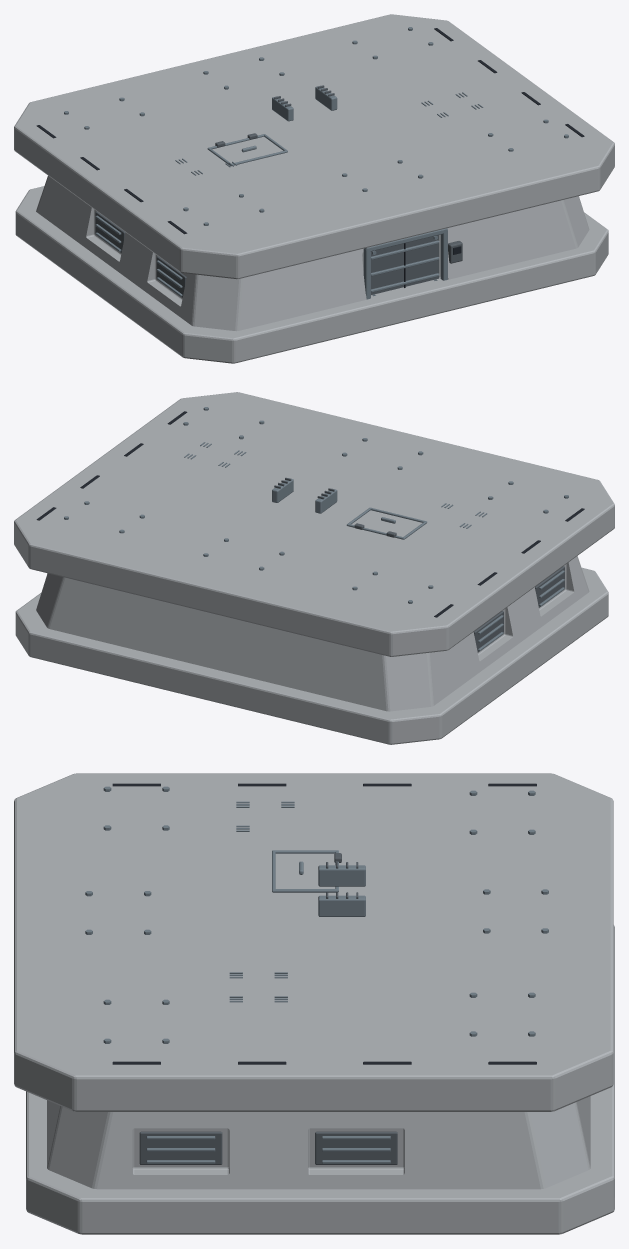
File: BunkerDetails.fbx
3 views of the same model, one above another, from view 1: azimuth 30°, elevation 25°; view 2: azimuth 150°, elevation 25°; view 3: azimuth 270°, elevation 25° (orthographic). The views are drawn at different scales.
Parts seen in each view (by area): view 1: Chamfered reinforced roof, Cast concrete shell, Chamfered foundation, Reinforced door jamb, Inset blast door, Door split, Turret side cooling block; view 2: Chamfered reinforced roof, Cast concrete shell, Chamfered foundation, Reinforced door jamb, Inset blast door, Turret side cooling block, Door split; view 3: Chamfered reinforced roof, Cast concrete shell, Chamfered foundation, Inset blast door, Reinforced door jamb, Turret side cooling block, Door split.
Boxes of the visible parts, left/top/right/bottom form: Chamfered reinforced roof: left=14, top=14, right=614, bottom=279; Cast concrete shell: left=36, top=176, right=589, bottom=331; Chamfered foundation: left=15, top=186, right=608, bottom=363; Reinforced door jamb: left=64, top=27, right=568, bottom=299; Inset blast door: left=95, top=133, right=462, bottom=297; Door split: left=36, top=28, right=584, bottom=287; Turret side cooling block: left=272, top=85, right=337, bottom=121; Chamfered reinforced roof: left=14, top=392, right=614, bottom=656; Cast concrete shell: left=36, top=556, right=589, bottom=711; Chamfered foundation: left=15, top=567, right=608, bottom=744; Reinforced door jamb: left=64, top=407, right=568, bottom=651; Inset blast door: left=354, top=523, right=564, bottom=652; Turret side cooling block: left=272, top=478, right=337, bottom=513; Door split: left=36, top=411, right=584, bottom=617; Chamfered reinforced roof: left=14, top=773, right=613, bottom=1111; Cast concrete shell: left=47, top=1096, right=590, bottom=1189; Chamfered foundation: left=26, top=925, right=614, bottom=1234; Inset blast door: left=139, top=853, right=397, bottom=1164; Reinforced door jamb: left=85, top=786, right=548, bottom=1163; Turret side cooling block: left=318, top=865, right=365, bottom=916; Door split: left=112, top=783, right=536, bottom=1064.
Size of the model in its own units: 862 by 274 by 720.
